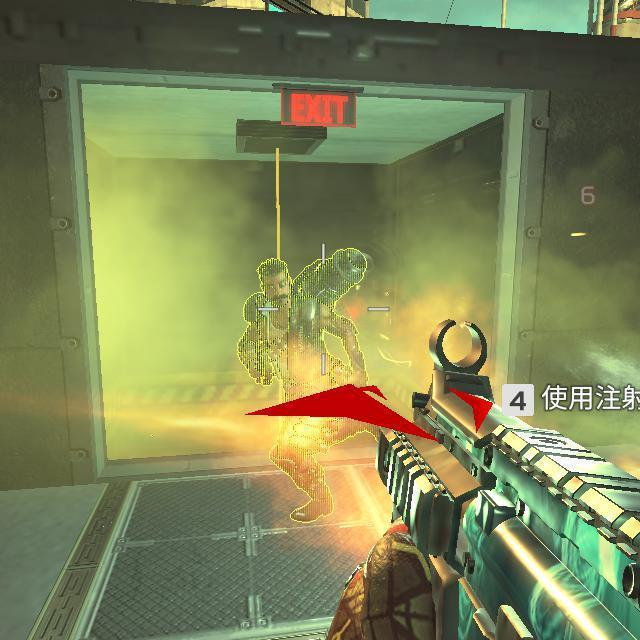avatar: (237, 244, 369, 526)
